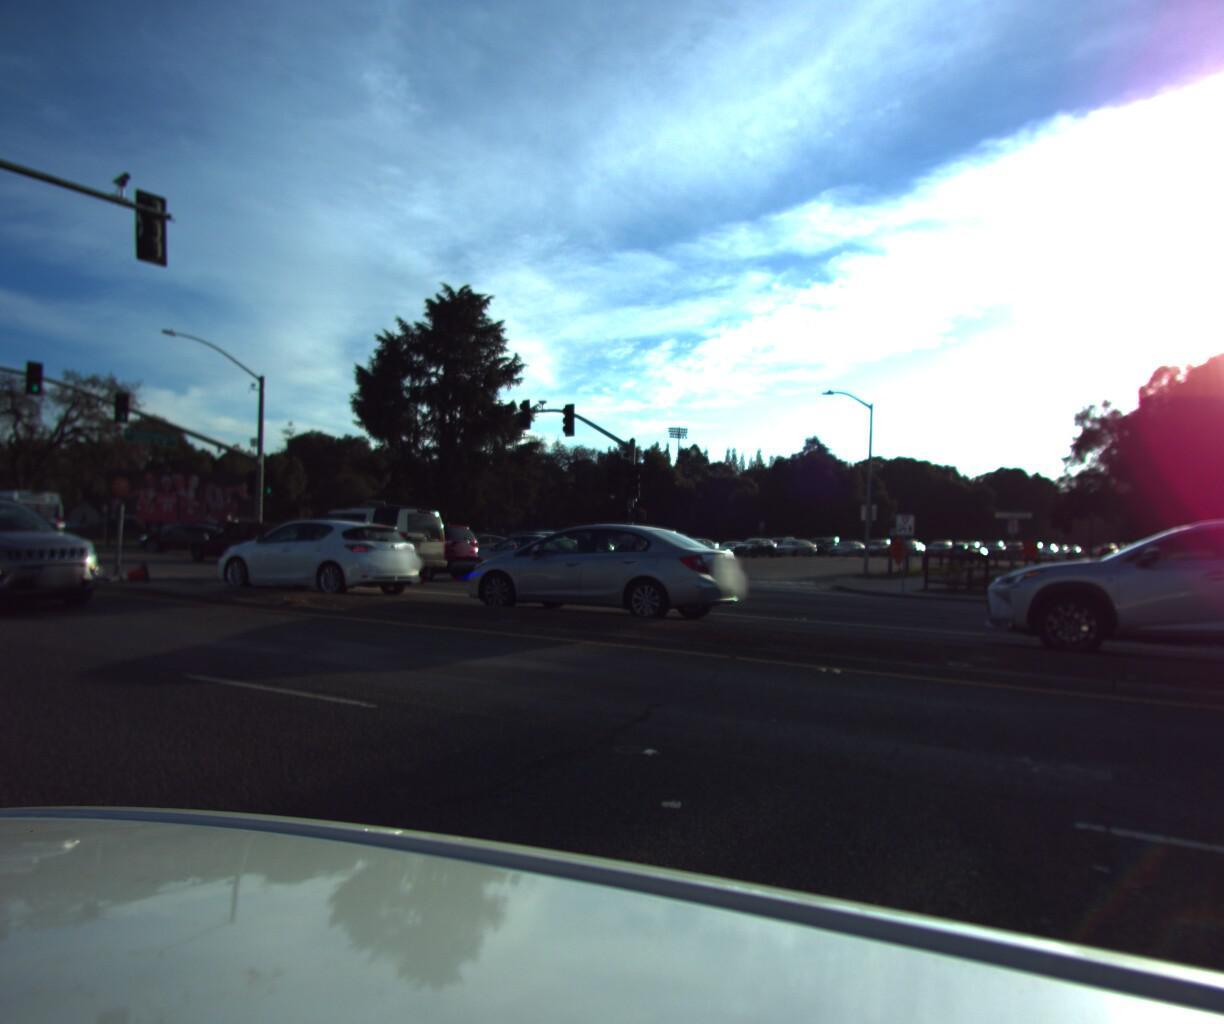car: (965, 492, 1224, 701), (441, 505, 757, 629), (197, 508, 429, 597), (0, 485, 124, 616), (270, 495, 443, 581), (334, 500, 485, 573), (448, 520, 592, 590), (179, 511, 294, 562), (0, 486, 61, 551), (131, 516, 237, 547), (426, 525, 522, 558), (638, 524, 710, 553), (767, 531, 817, 555), (703, 532, 757, 554), (940, 531, 985, 555), (822, 533, 867, 555)
